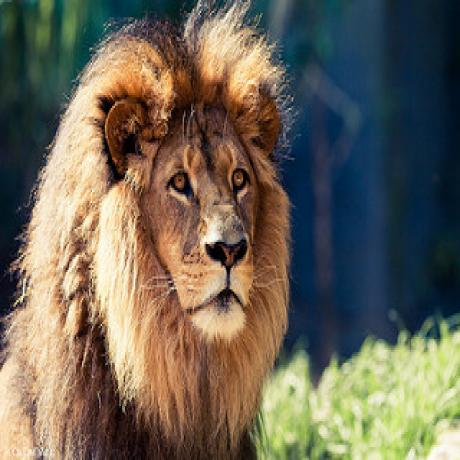Lion: (0, 2, 296, 460)
